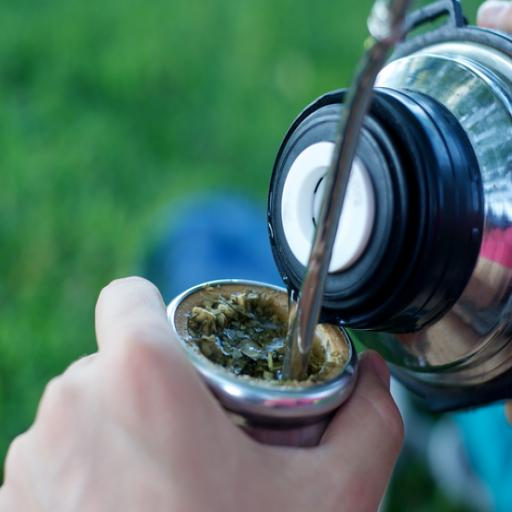mate: (168, 280, 357, 446)
termo: (320, 0, 511, 412)
